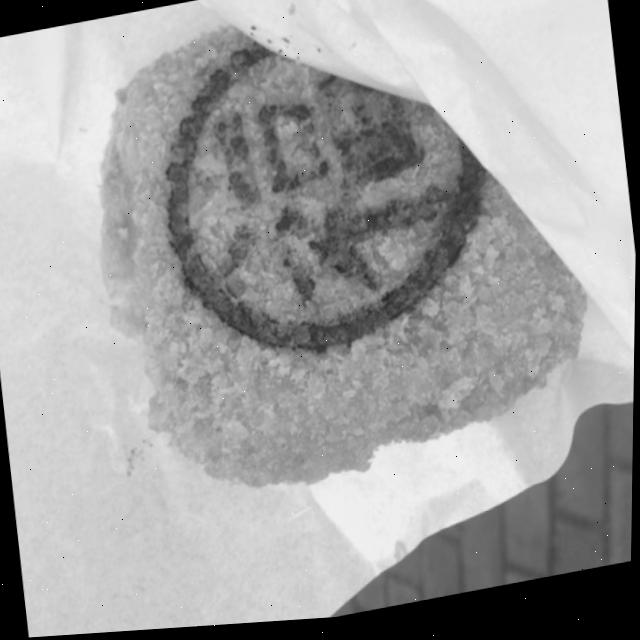炸货点心: (36, 0, 617, 572)
